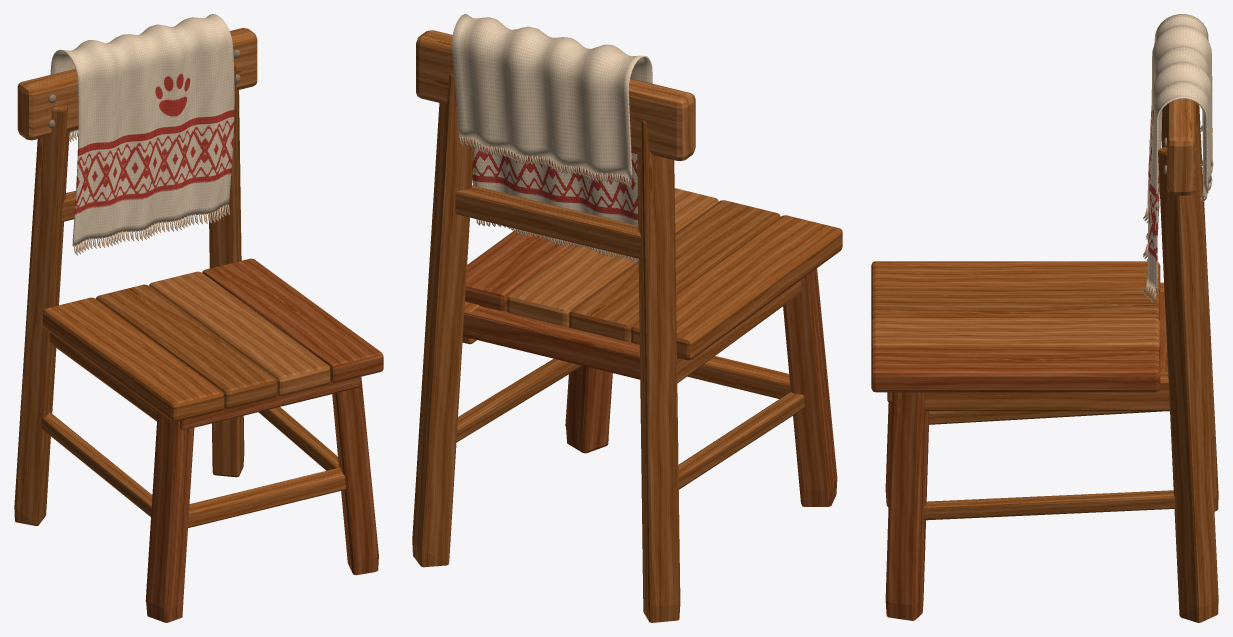
File: bath-chair-with-towel.glb
3 views of the same model, side by side, from view 1: azimuth 30°, elevation 25°; view 2: azimuth 150°, elevation 25°; view 3: azimuth 270°, elevation 25° (orthographic). The views are drawn at different scales.
Visible parts, largest first — view 1: Oak chair frame, Draped linen, Looped towel fringe; view 2: Oak chair frame, Draped linen, Looped towel fringe; view 3: Oak chair frame, Draped linen.
Part boxes in pixels (x1,y1,x2,y2): Oak chair frame: [14, 28, 383, 622]; Draped linen: [50, 14, 234, 246]; Looped towel fringe: [69, 130, 229, 255]; Oak chair frame: [412, 30, 842, 622]; Draped linen: [451, 14, 652, 225]; Looped towel fringe: [459, 136, 638, 263]; Oak chair frame: [871, 99, 1218, 622]; Draped linen: [1147, 14, 1212, 293].
Size of the model in its own units: 0.458 by 0.8868 by 0.5435.
Materials: 7 (7 with a texture image).
